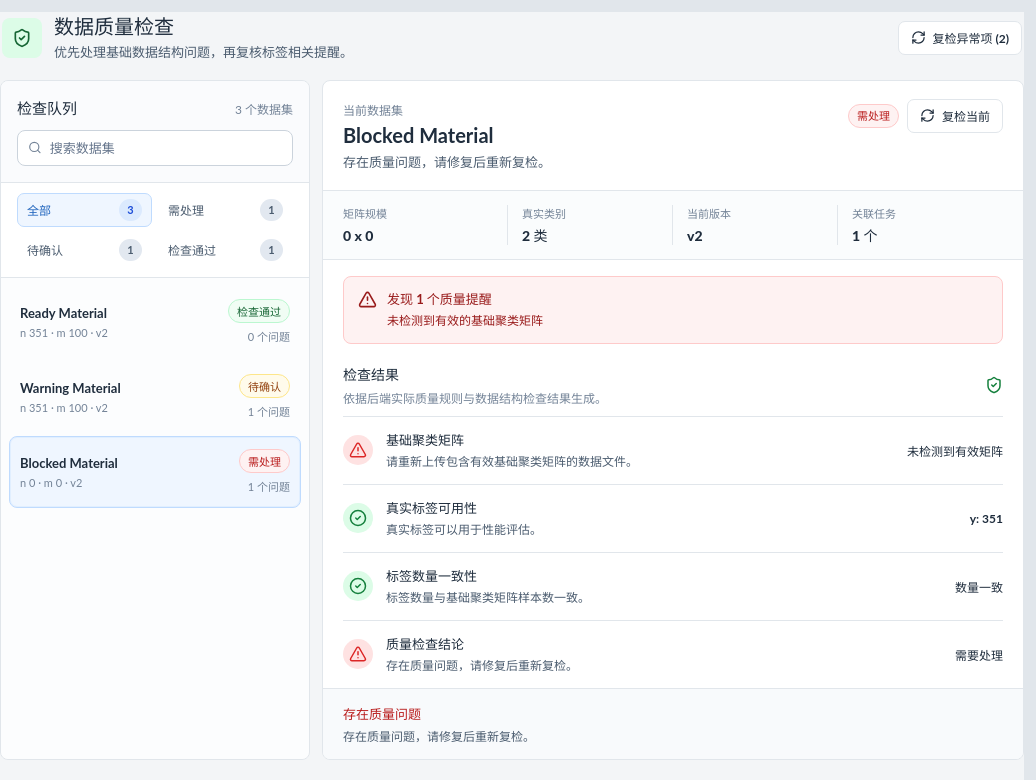
Test: DataQualityPage › rechecks the selected dataset and refreshes its readiness state
Click the button "复检当前" at point(955, 116), box [907,99,1003,133]
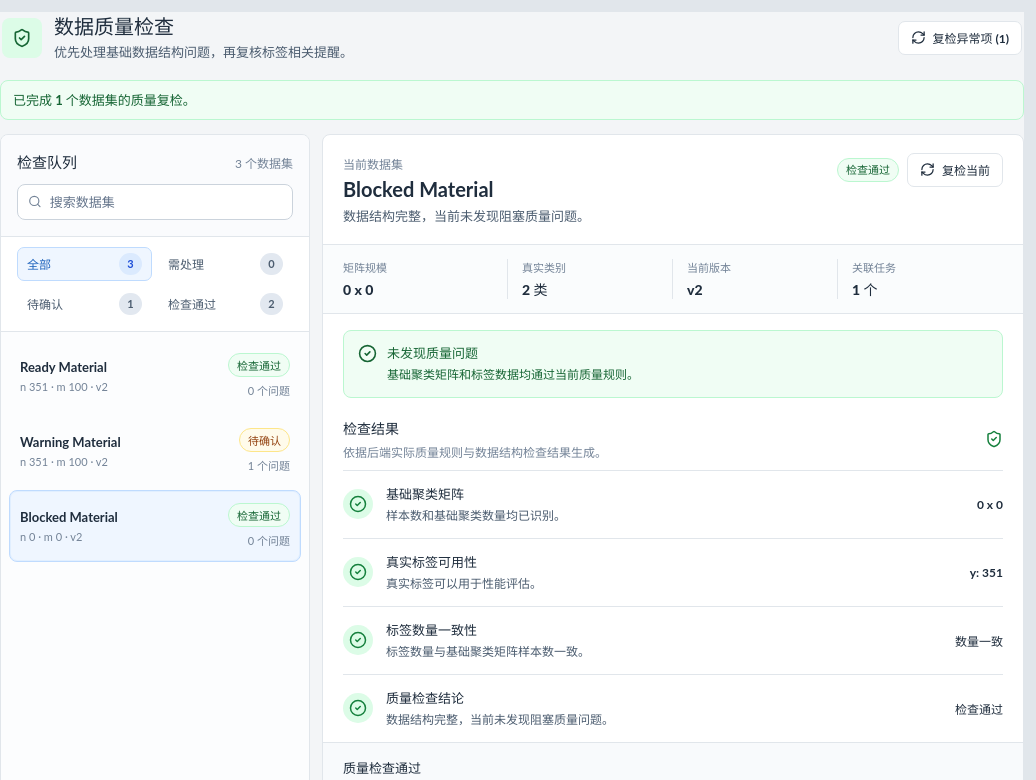
Now the text "已完成 1 个数据集的质量复检。" is shown, box [0,80,1024,120]
Now the text "未发现质量问题" is shown, box [387,345,478,361]
Now the text "质量检查通过" is shown, box [343,760,421,776]
